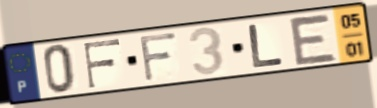0: (42, 43, 79, 96)
3: (187, 24, 227, 78)
E: (286, 13, 340, 68)
F: (137, 30, 180, 84), (81, 37, 123, 91)
L: (246, 22, 287, 70)
